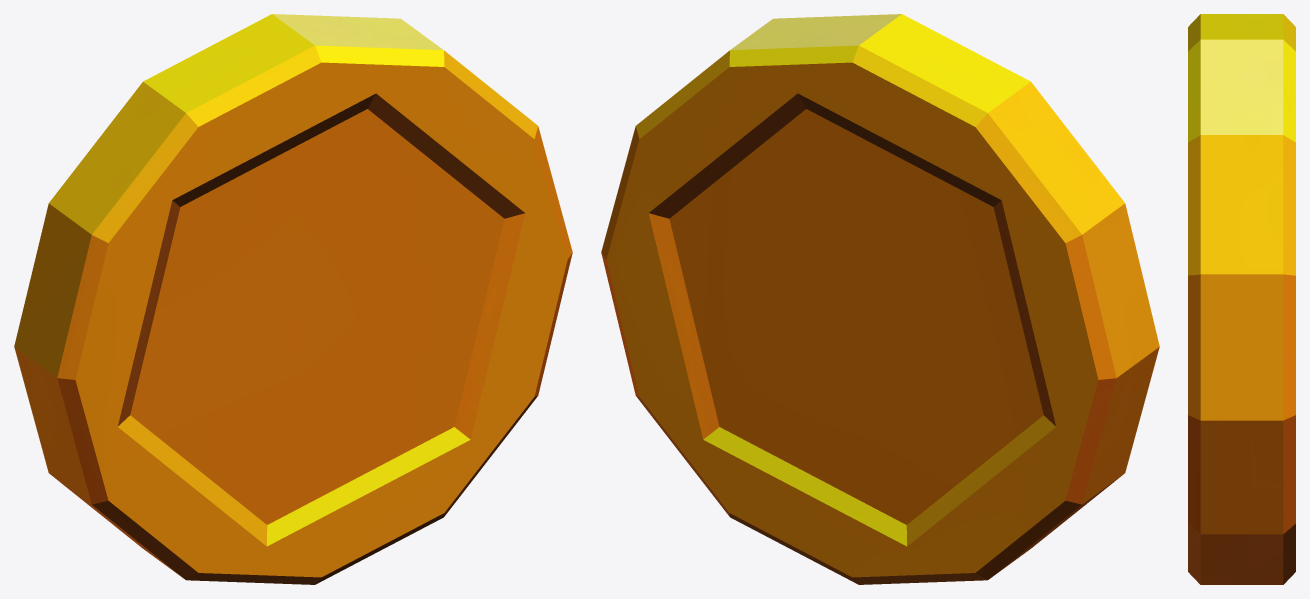
Rendered from gold coin.FBX.
3 renders of one model, left to right at view 1: azimuth 30°, elevation 25°; view 2: azimuth 150°, elevation 25°; view 3: azimuth 270°, elevation 25°, orthographic. The views are drawn at different scales.
Parts seen in each view (by area): view 1: gold coin; view 2: gold coin; view 3: gold coin.
Part boxes in pixels (x1=…): gold coin: x1=14, y1=14, x2=572, y2=584; gold coin: x1=601, y1=14, x2=1159, y2=584; gold coin: x1=1188, y1=14, x2=1295, y2=584.
Bounding box in the file's own units: 53.62 × 53.62 × 10.1.
